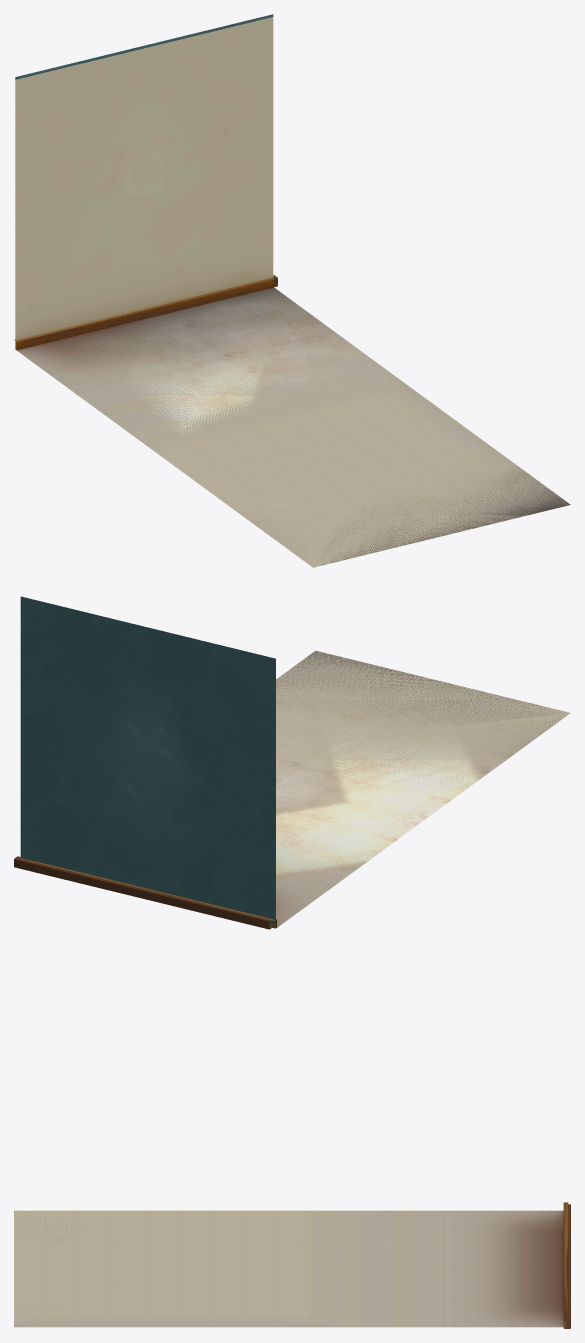
The model's file is Background-Gameplay-00.fbx.
3 renders of one model, top to bottom at view 1: azimuth 30°, elevation 25°; view 2: azimuth 150°, elevation 25°; view 3: azimuth 270°, elevation 25°, orthographic. The views are drawn at different scales.
Parts seen in each view (by area): view 1: Mesh-Backgrounds-01, Mesh-Floor, Mesh-FloorPadding, Mesh-Wall; view 2: Mesh-Wall, Mesh-Floor, Mesh-Backgrounds-01, Mesh-FloorPadding; view 3: Mesh-Backgrounds-01, Mesh-FloorPadding.
Part boxes in pixels (<box>): Mesh-Backgrounds-01: <box>14,17,568,567</box>; Mesh-Floor: <box>45,287,570,565</box>; Mesh-FloorPadding: <box>20,275,277,347</box>; Mesh-Wall: <box>15,14,273,79</box>; Mesh-Wall: <box>20,596,275,925</box>; Mesh-Floor: <box>276,651,561,910</box>; Mesh-Backgrounds-01: <box>19,651,570,928</box>; Mesh-FloorPadding: <box>14,856,271,929</box>; Mesh-Backgrounds-01: <box>14,1202,568,1327</box>; Mesh-FloorPadding: <box>563,1204,570,1328</box>.
Bounding box in the file's own units: 406 × 404 × 808.
